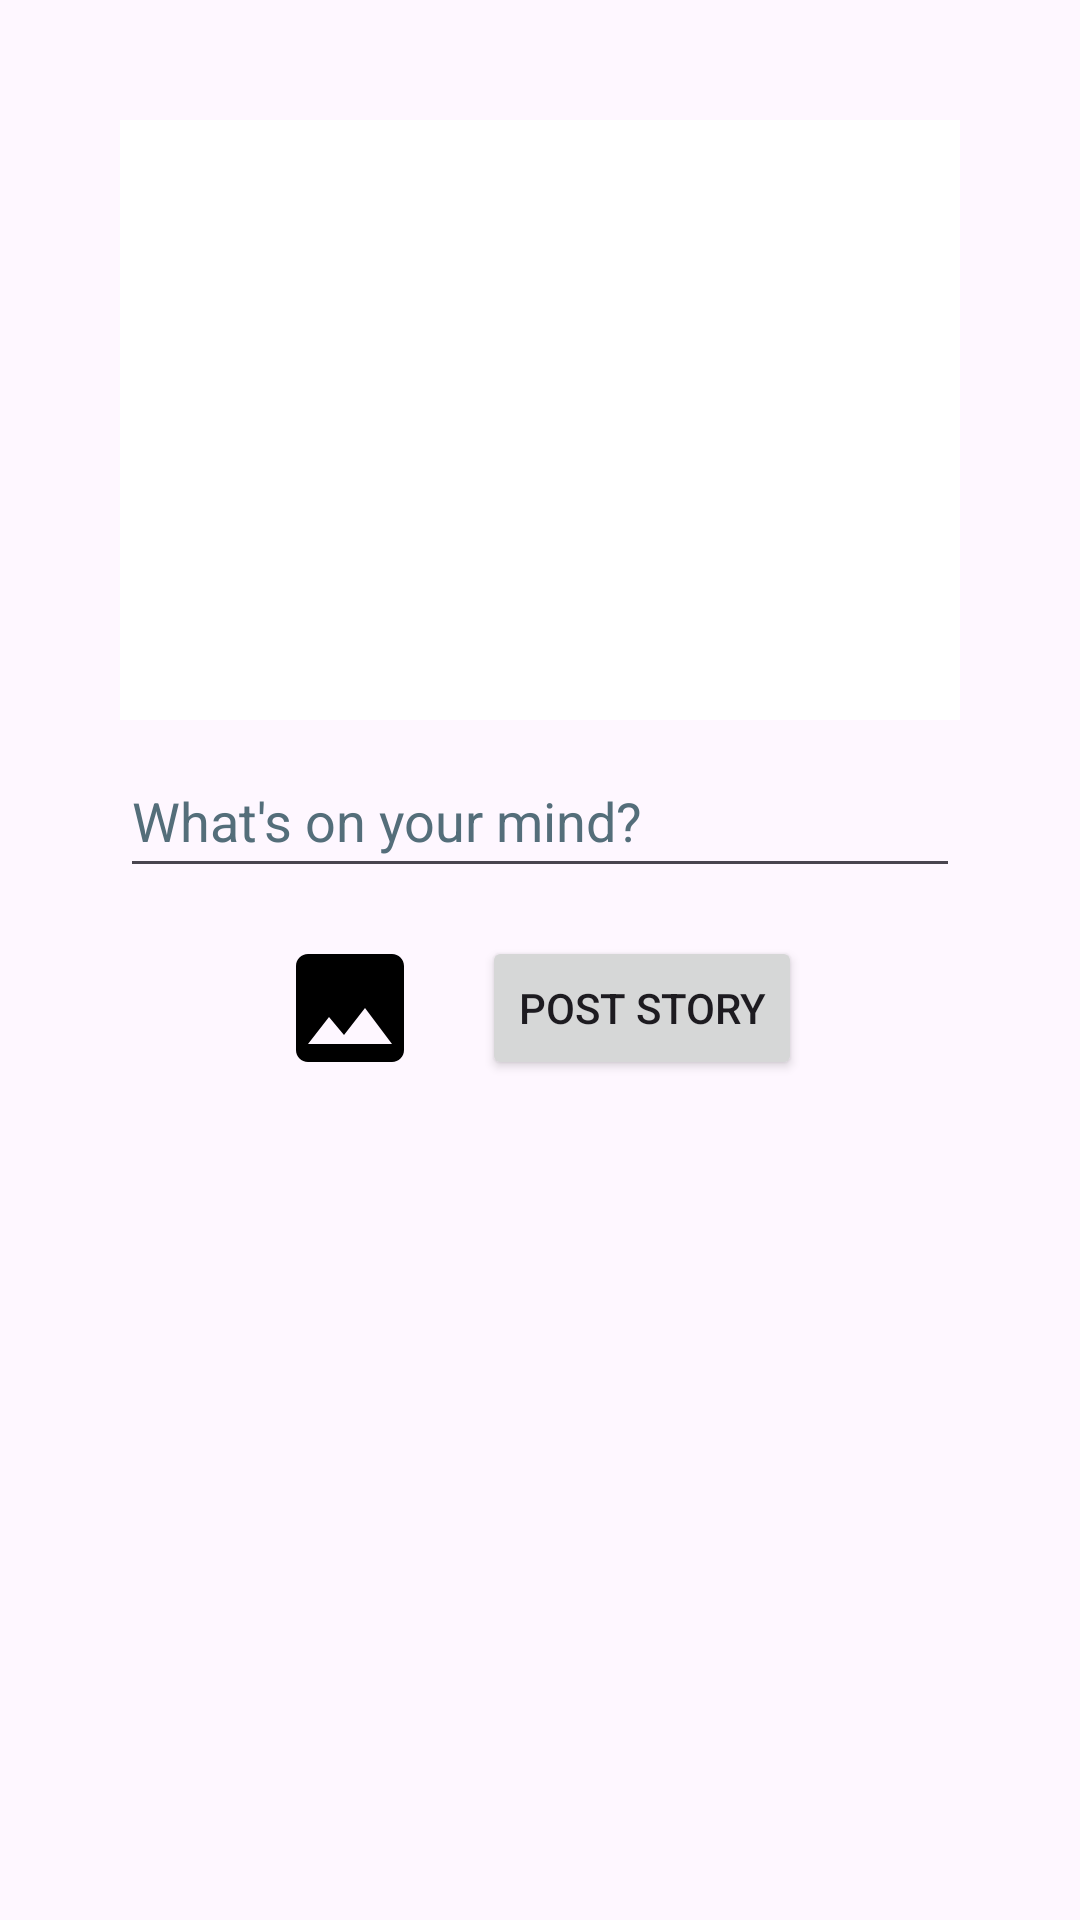

Locate icon controls on the screen. Image size 1080 x 1920, boxes as {"left": x1, "top": y1, "right": x2, "bottom": y2}.
Add Photo Button: {"left": 296, "top": 954, "right": 404, "bottom": 1062}
